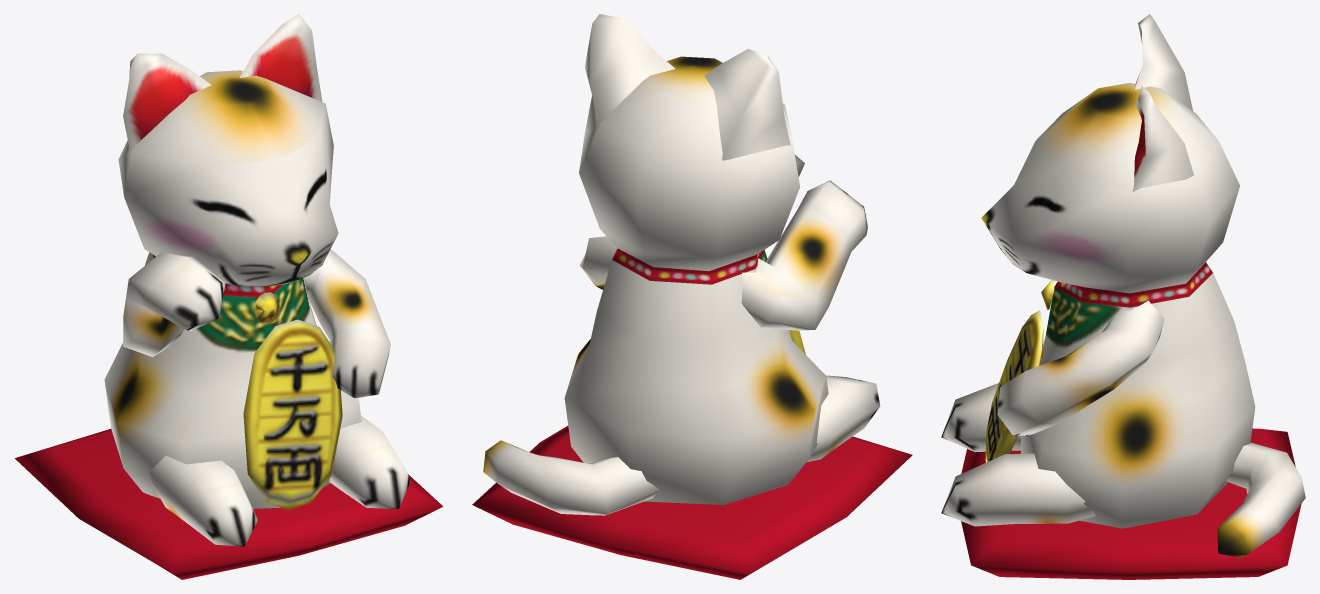
File: fortune_cat.fbx
The picture shows the model from 3 angles, left to right: view 1: azimuth 30°, elevation 25°; view 2: azimuth 150°, elevation 25°; view 3: azimuth 270°, elevation 25°; orthographic projection. The views are drawn at different scales.
Parts seen in each view (by area): view 1: fortune_cat; view 2: fortune_cat; view 3: fortune_cat.
Boxes of the visible parts, x1,y1,x2,y2 form: fortune_cat: (14, 14, 442, 579); fortune_cat: (472, 14, 912, 579); fortune_cat: (941, 14, 1305, 579).
Size of the model in its own units: 33.11 by 48.37 by 34.11.
